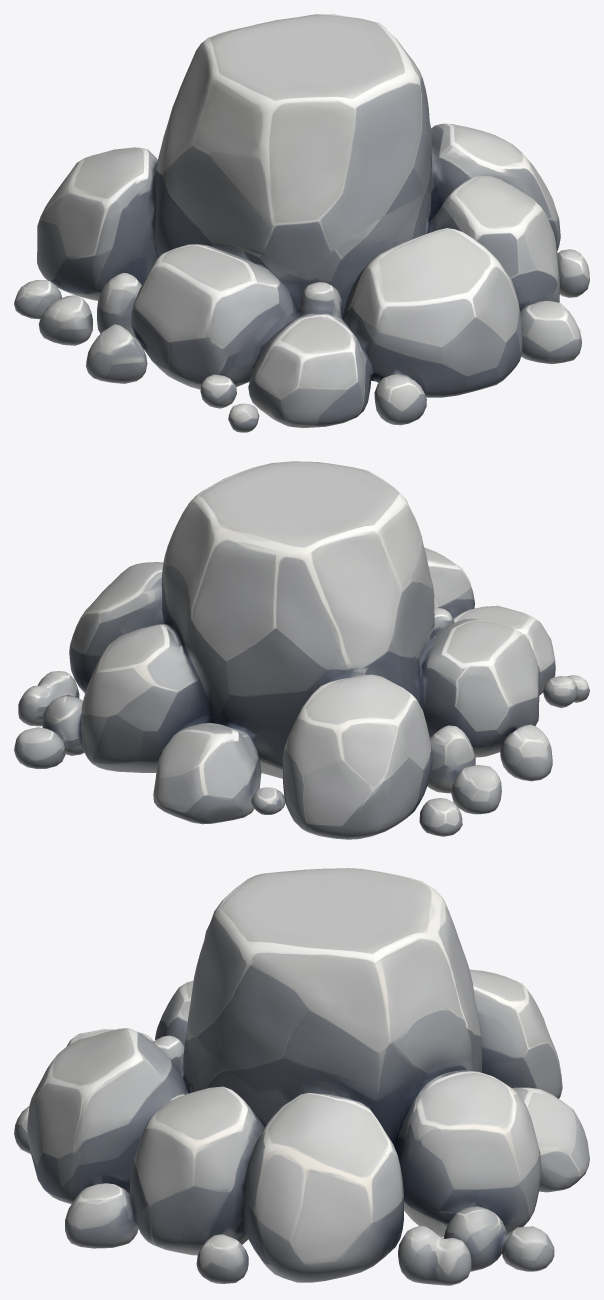
The model's file is stone_deposit.glb.
3 views of the same model, one above another, from view 1: azimuth 30°, elevation 25°; view 2: azimuth 150°, elevation 25°; view 3: azimuth 270°, elevation 25° (orthographic). The views are drawn at different scales.
Size of the model in its own units: 1.91 by 0.9824 by 1.9.
1 material, 1 textured.
